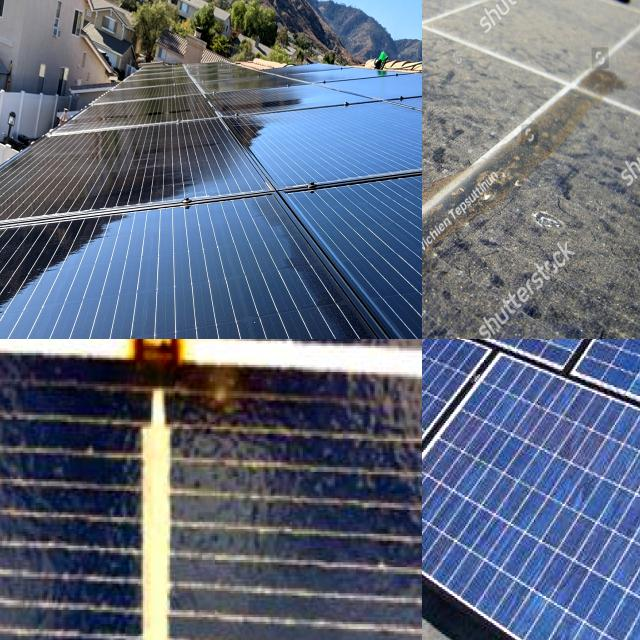bird: (422, 247, 461, 318), (422, 267, 449, 339), (422, 122, 446, 196), (422, 197, 447, 235), (607, 0, 640, 23)
crack: (443, 388, 640, 634), (184, 226, 306, 306), (327, 197, 422, 283), (422, 339, 469, 486), (108, 222, 198, 294), (0, 278, 96, 339), (32, 150, 136, 203), (534, 339, 614, 395), (292, 118, 391, 162), (133, 143, 211, 188), (439, 339, 502, 383)
shadow: (85, 339, 265, 457)
